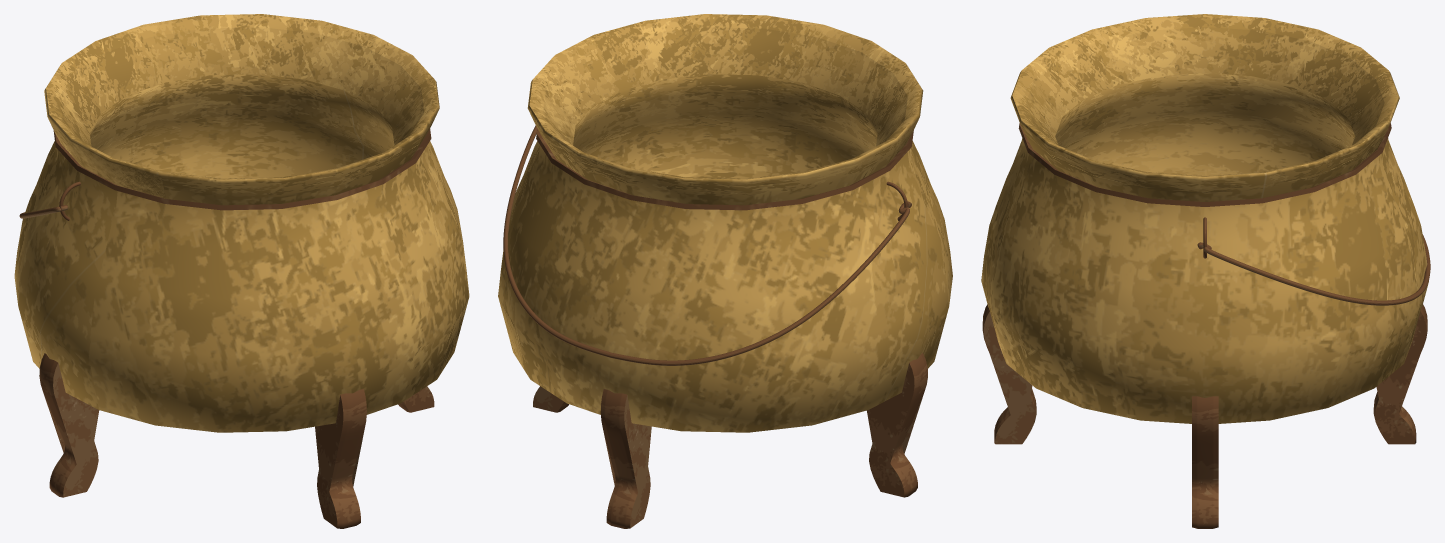
File: cauldron.fbx
3 renders of one model, left to right at view 1: azimuth 30°, elevation 25°; view 2: azimuth 150°, elevation 25°; view 3: azimuth 270°, elevation 25°, orthographic. The views are drawn at different scales.
Parts seen in each view (by area): view 1: pSphere1, polySurface4, polySurface5, polySurface6; view 2: pSphere1, polySurface7, polySurface5, pCylinder3, polySurface6; view 3: pSphere1, polySurface6, polySurface4, polySurface7, pCylinder3.
Boxes of the visible parts, bbox=[...] form: pSphere1: bbox=[14, 14, 469, 432]; polySurface4: bbox=[315, 389, 366, 528]; polySurface5: bbox=[39, 353, 99, 497]; polySurface6: bbox=[398, 386, 434, 412]; pSphere1: bbox=[498, 14, 952, 432]; polySurface7: bbox=[600, 389, 651, 528]; polySurface5: bbox=[867, 353, 927, 497]; pCylinder3: bbox=[503, 125, 911, 365]; polySurface6: bbox=[533, 386, 568, 412]; pSphere1: bbox=[981, 14, 1428, 423]; polySurface6: bbox=[1192, 396, 1218, 528]; polySurface4: bbox=[982, 304, 1036, 444]; polySurface7: bbox=[1373, 304, 1427, 444]; pCylinder3: bbox=[1197, 234, 1430, 305].
Size of the model in its own units: 11.31 by 9.59 by 11.35.
